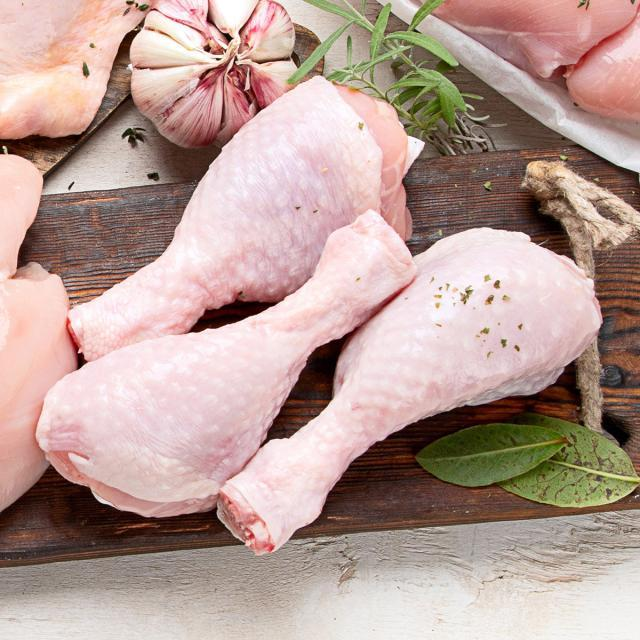leg: (228, 236, 592, 546), (39, 228, 394, 517), (74, 78, 412, 328)
